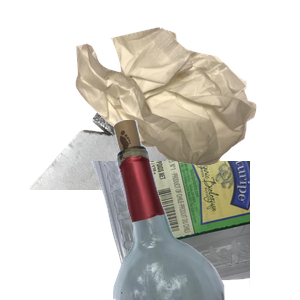glass: (89, 120, 300, 300)
paper: (10, 10, 250, 190)
plastic: (23, 161, 263, 300)
trash: (73, 25, 300, 183)
